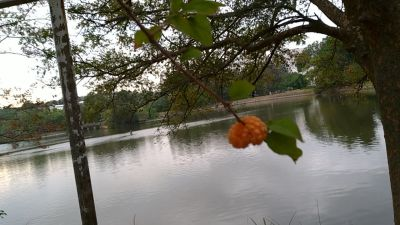eggs: (227, 113, 268, 149)
